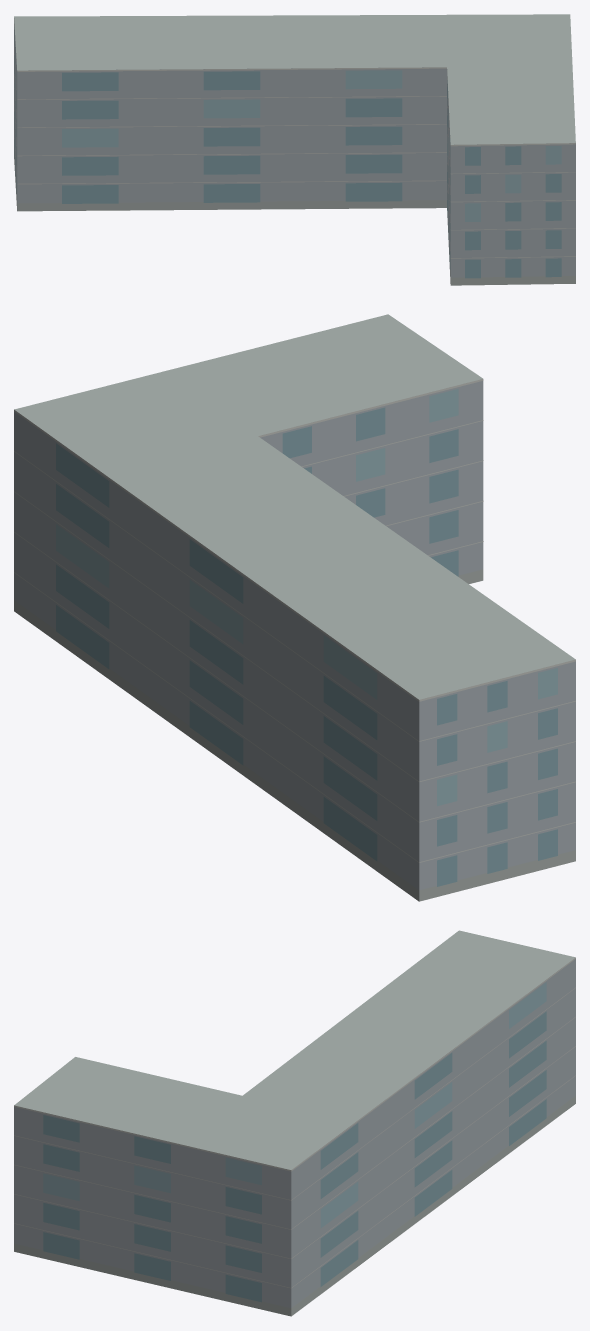
The model's file is survey-upis-32574154.glb.
3 views of the same model, one above another, from view 1: azimuth 30°, elevation 25°; view 2: azimuth 150°, elevation 25°; view 3: azimuth 270°, elevation 25° (orthographic). The views are drawn at different scales.
Visible parts, largest first — view 1: survey-upis-32574154.tmp; view 2: survey-upis-32574154.tmp; view 3: survey-upis-32574154.tmp.
Part boxes in pixels (x1,y1,x2,y2): survey-upis-32574154.tmp: (14, 14, 575, 285); survey-upis-32574154.tmp: (14, 314, 575, 901); survey-upis-32574154.tmp: (14, 930, 575, 1316).
Bounding box in the file's own units: 86.61 × 24.65 × 85.78.
